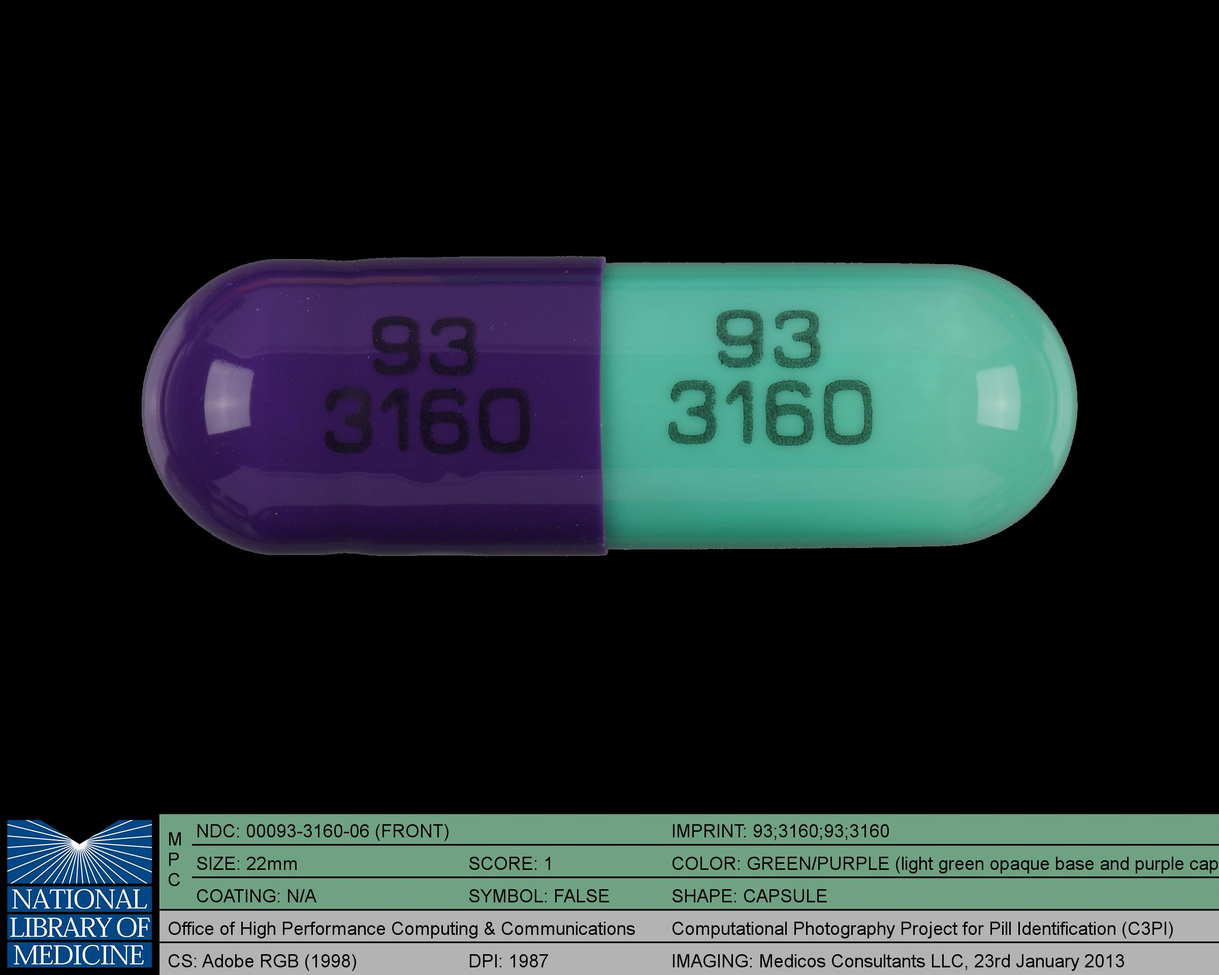Pill: (129, 240, 1087, 564)
